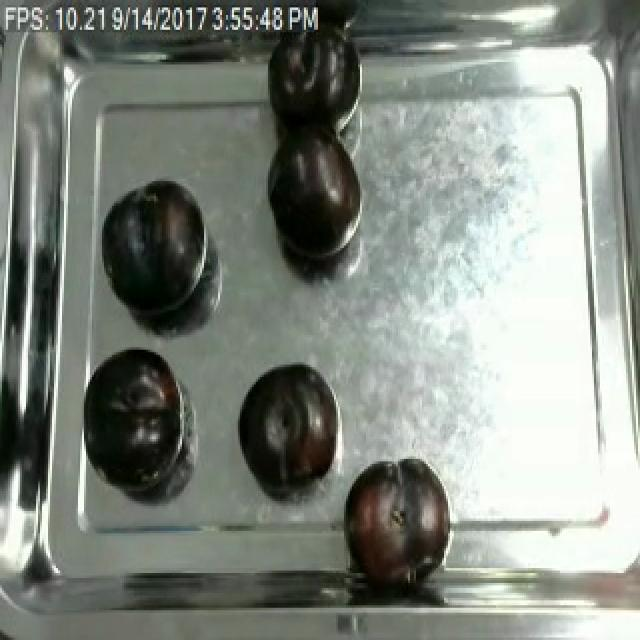Fruit: (96, 179, 208, 325), (342, 452, 456, 590), (80, 342, 184, 489), (262, 124, 364, 270), (234, 359, 340, 488)
